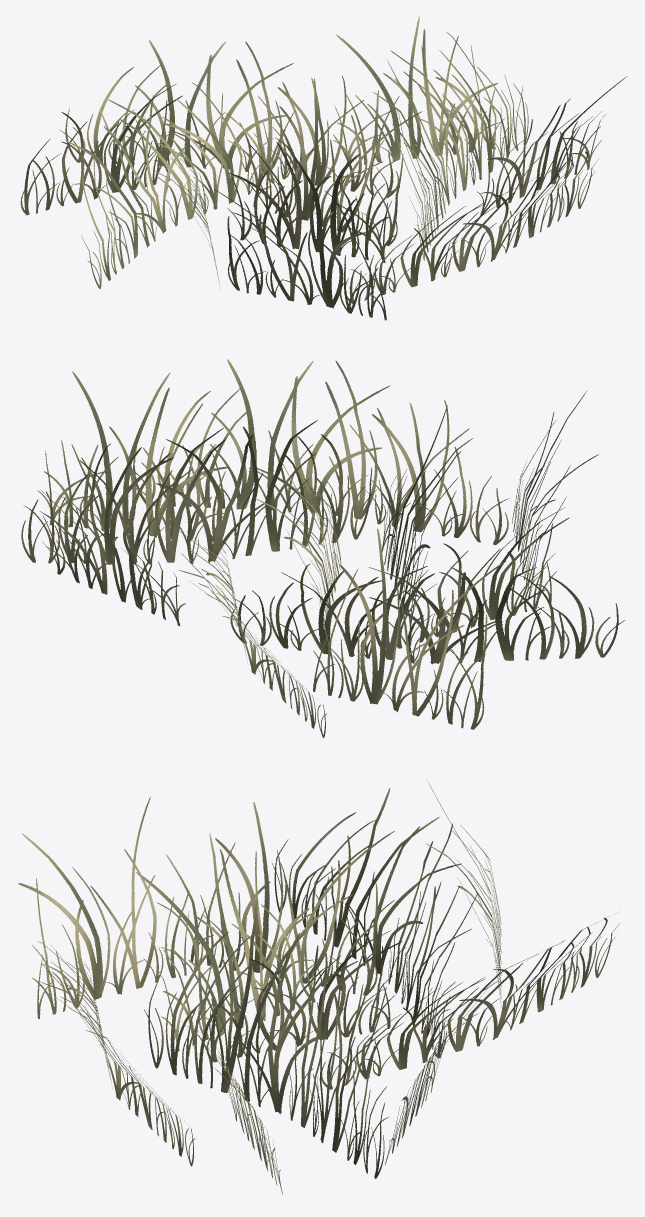
File: Grass - Grass1 4-BrhuYMh3.glb
3 views of the same model, one above another, from view 1: azimuth 30°, elevation 25°; view 2: azimuth 150°, elevation 25°; view 3: azimuth 270°, elevation 25° (orthographic). The views are drawn at different scales.
Visible parts, largest first — view 1: Grass1_4_LOD0; view 2: Grass1_4_LOD0; view 3: Grass1_4_LOD0.
Part boxes in pixels (x1,y1,x2,y2): Grass1_4_LOD0: (20,16,627,320); Grass1_4_LOD0: (21,359,624,738); Grass1_4_LOD0: (18,780,619,1194).
Size of the model in its own units: 1.58 by 0.427 by 1.37.
Materials: 1 (1 with a texture image).
